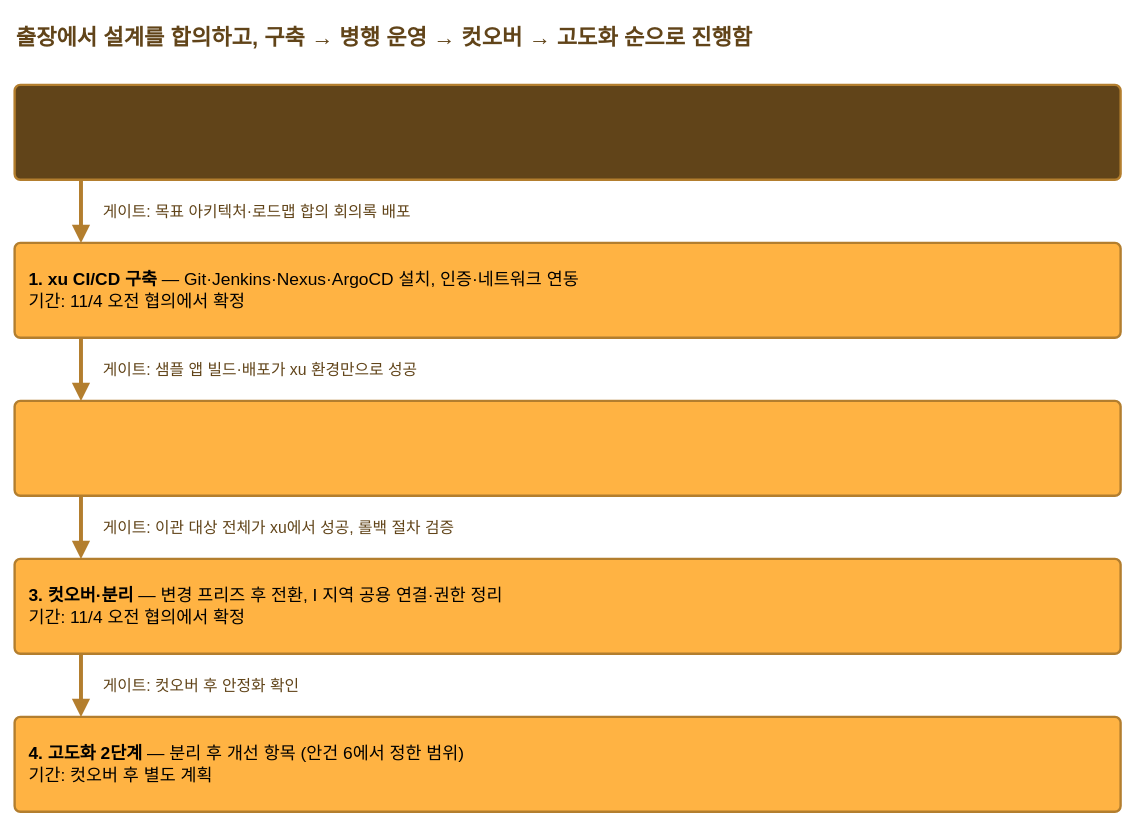
The diagram is 1135 pixels wide and 826 high, and some of its shapes have lost their labels. Here are the shapes that lost their labels. From the top down, the centre of each, then its label:
the point at 567,132: 0. 협의·설계 — 분리 범위·목표 아키텍처·R&R 합의, 의존성 목록화 11/2~11/4 오전 협의 (2.5일)
the point at 567,448: 2. 병행 운영·이관 — Job·레포·이미지 순차 이관, 공용 환경은 롤백용으로 유지 기간: 11/4 오전 협의에서 확정
